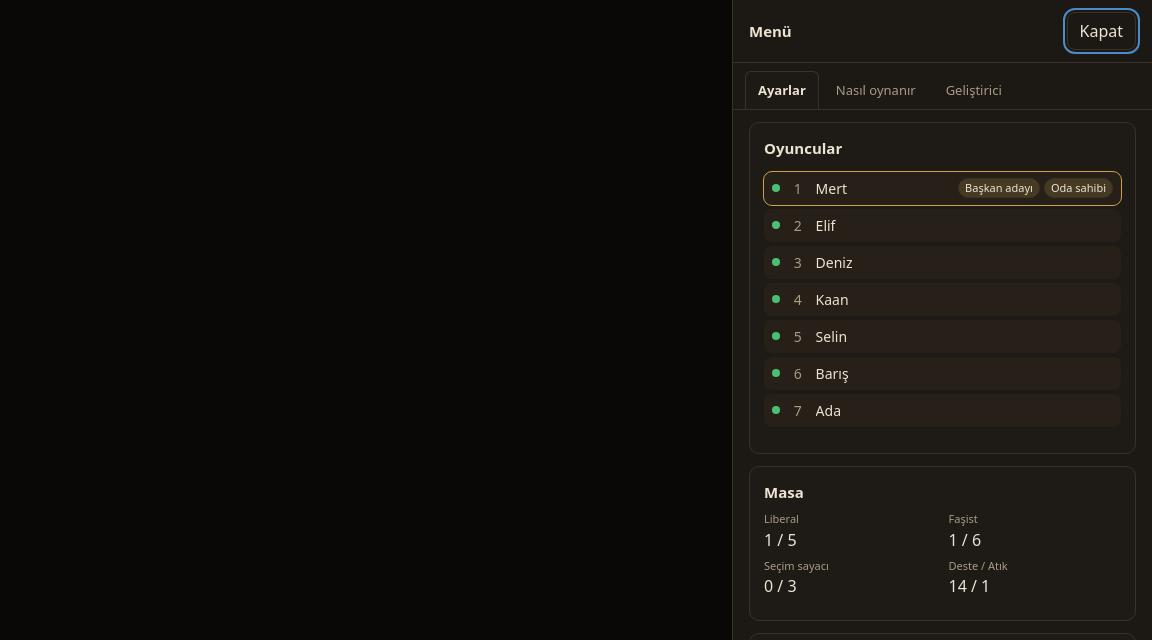
Test: GameMenu — Geliştirici bölümü (DEV) › sunucu reddederse hata menüde gösterilir
Click the tab "Geliştirici".
click(974, 90)  # box top-left (933, 71), bottom-right (1015, 109)
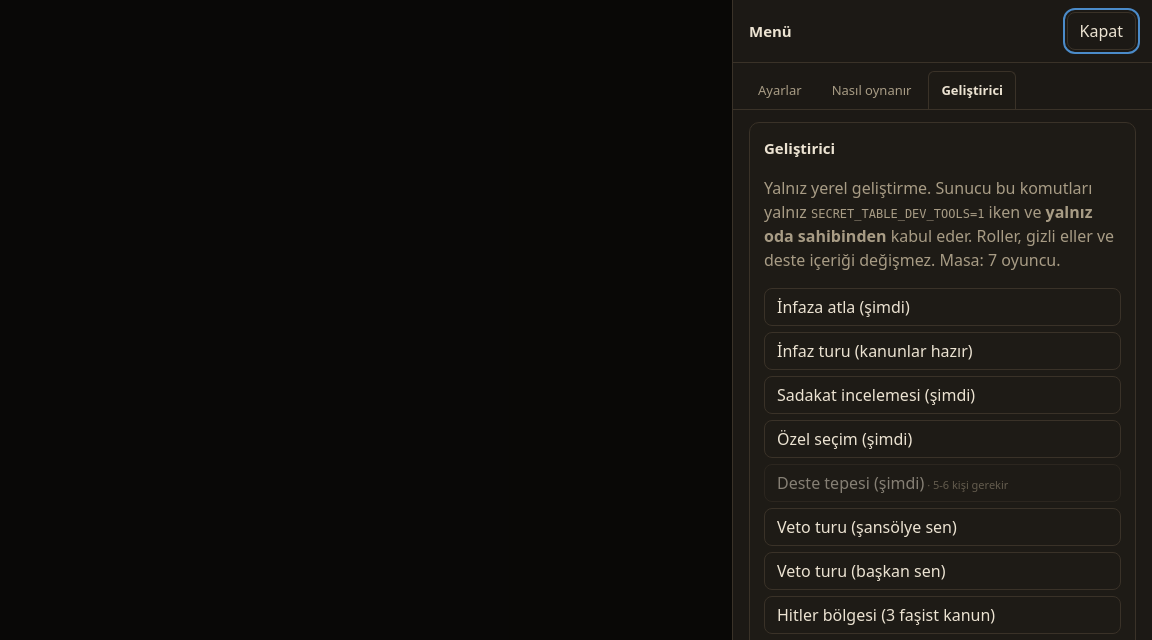
Click the button "İnfaza atla (şimdi)".
click(843, 306)  # box top-left (764, 288), bottom-right (1121, 326)
(page scrolled)
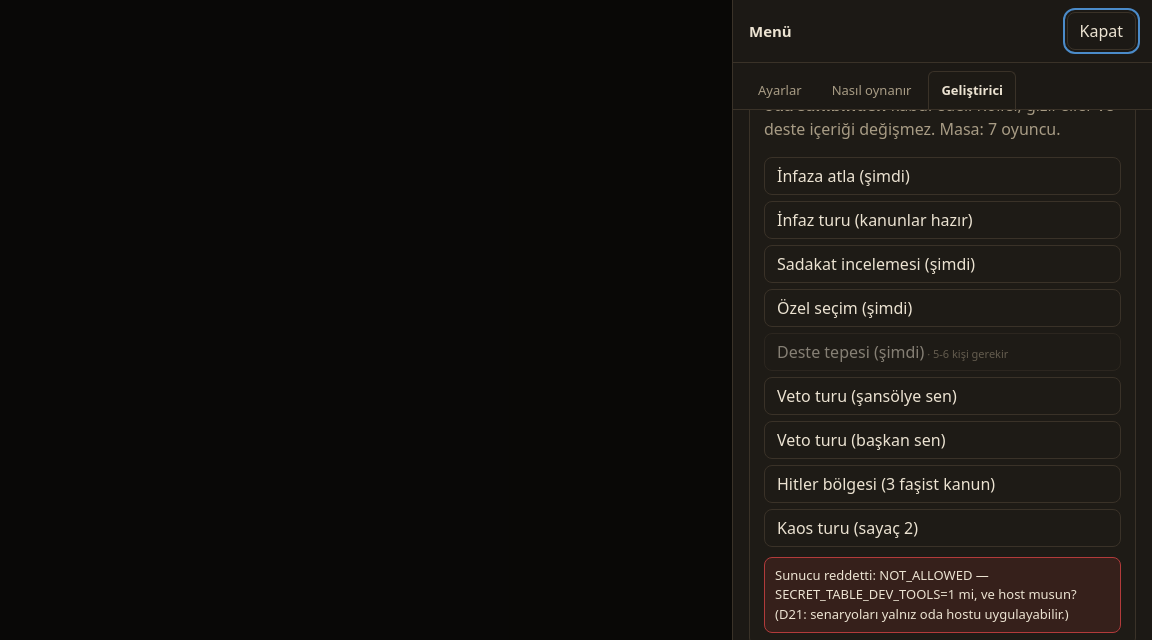
Now the message shows "NOT_ALLOWED", box top-left (775, 566), bottom-right (1077, 622)
